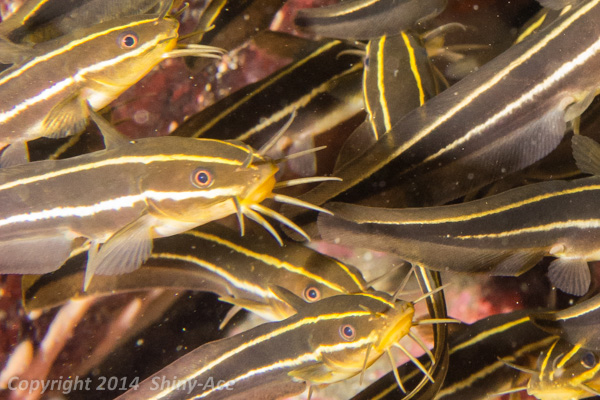gonzui: (1, 127, 309, 277), (124, 288, 423, 400)
